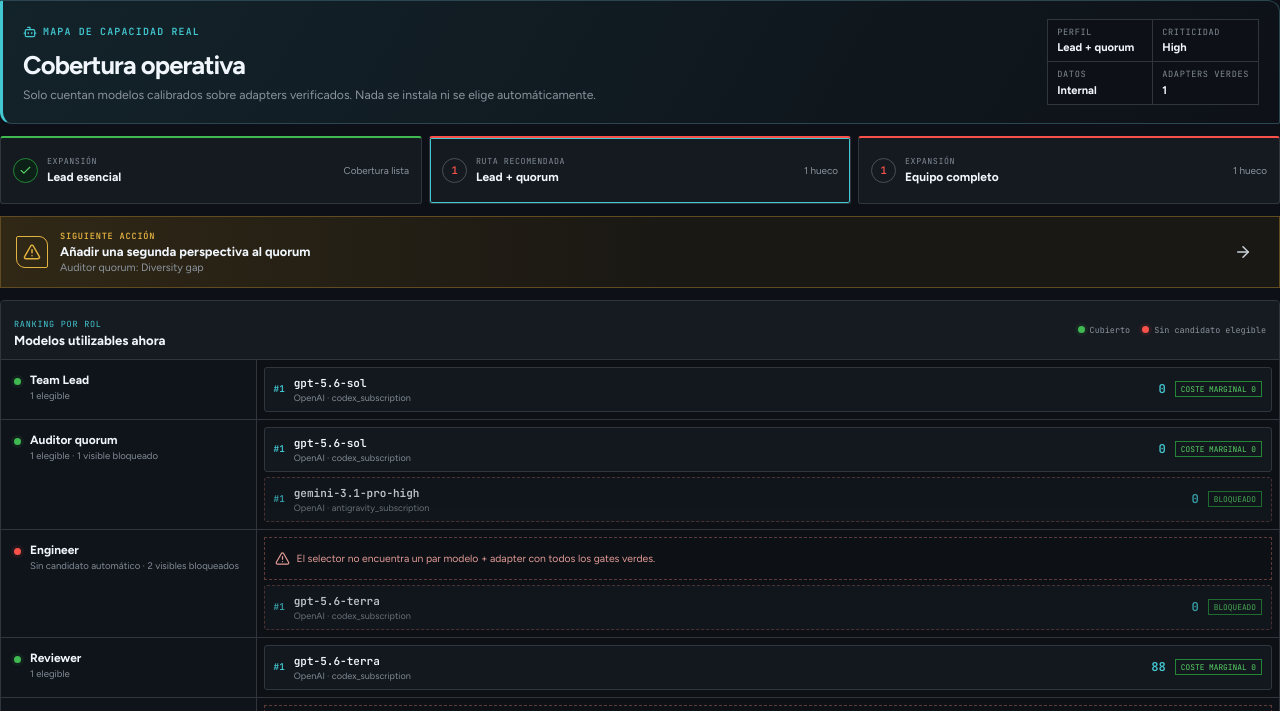
GuidedSetupCoverage › distingue score cero de dato ausente y abre evidencia accesible
The image size is (1280, 711).
Expected: the text named "Puntuación 0" reads "0", [1158,381,1166,397]
What coordinates should you click on to do the following:
click the text "gpt-5.6-sol" in the row of "Team Lead"
I would click on:
 (330, 383)
Its box is [294,376,366,390].
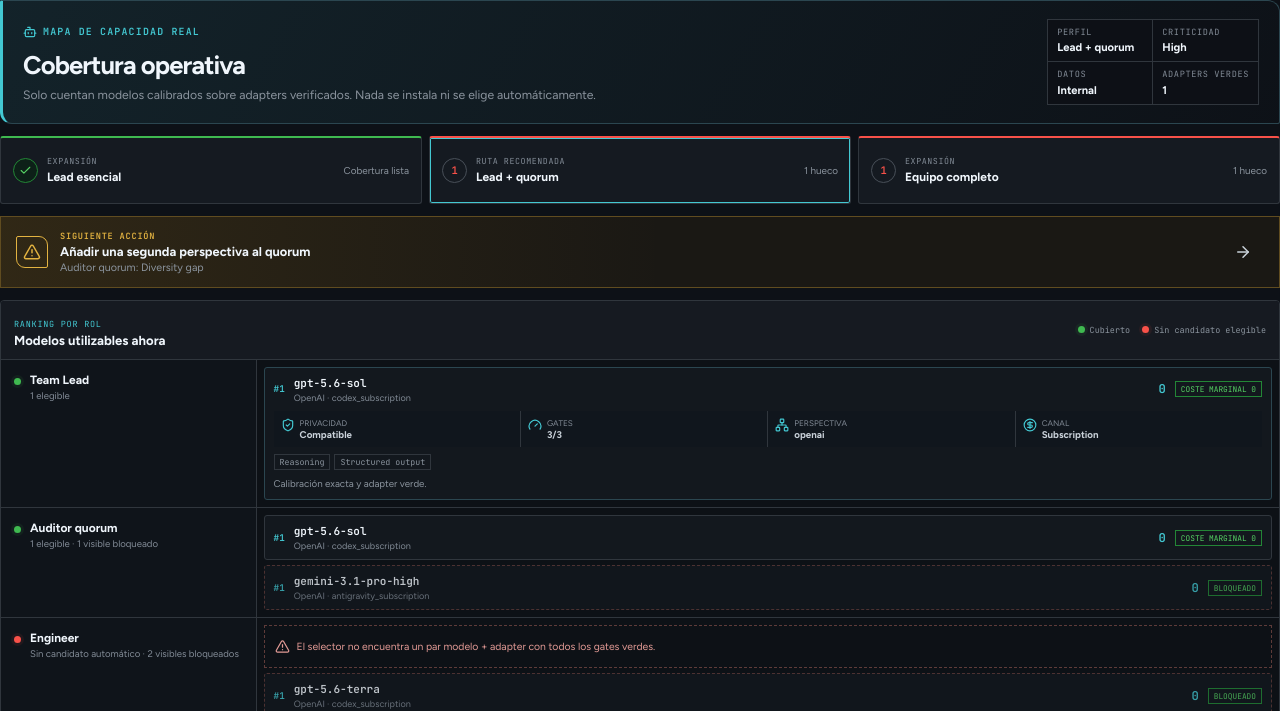
Expected: the text "coste marginal 0" in the row of "Team Lead" is shown, [1181,384,1256,394]
Result: the text "Privacidad" is shown at [300,418,347,428]
Result: the text "3/3" is shown at [547,429,562,440]
